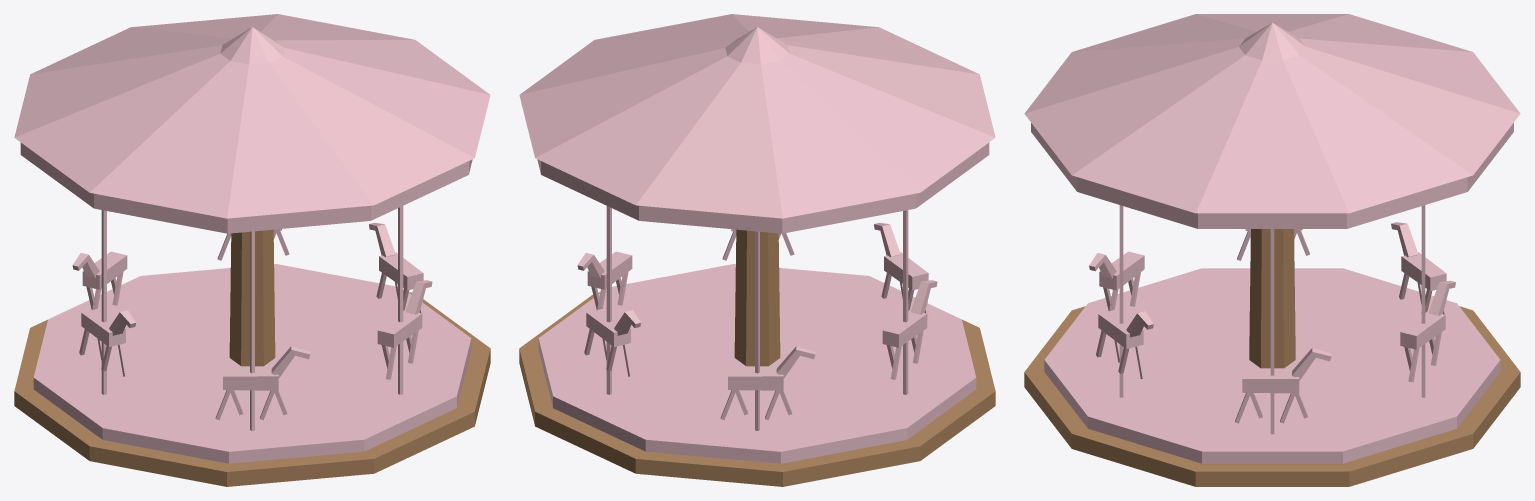
The model's file is carousel.glb.
3 renders of one model, left to right at view 1: azimuth 30°, elevation 25°; view 2: azimuth 150°, elevation 25°; view 3: azimuth 270°, elevation 25°, orthographic.
Parts seen in each view (by area): view 1: top, carousel; view 2: top, carousel; view 3: top, carousel.
Part boxes in pixels (x1,y1,x2,y2): top: [14, 14, 490, 463]; carousel: [14, 229, 490, 486]; top: [519, 14, 995, 463]; carousel: [519, 229, 995, 486]; top: [1024, 14, 1520, 463]; carousel: [1024, 229, 1520, 486].
Size of the model in its own units: 7.04 by 6 by 7.4.
